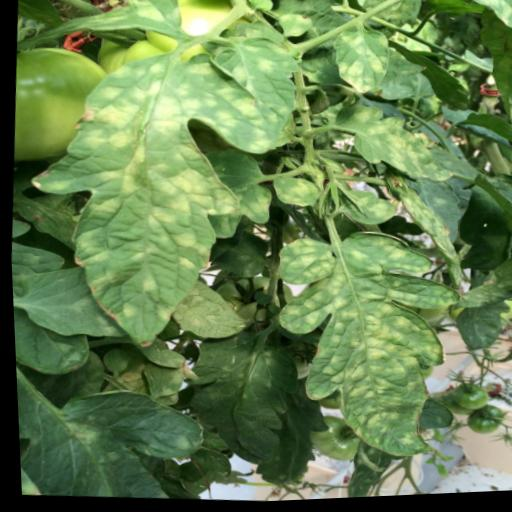Leaf Mold: (13, 43, 272, 356), (262, 224, 465, 470), (309, 99, 457, 193), (199, 28, 301, 117), (159, 265, 248, 345), (58, 0, 183, 45), (330, 28, 394, 105), (264, 176, 321, 216), (343, 189, 398, 230)
